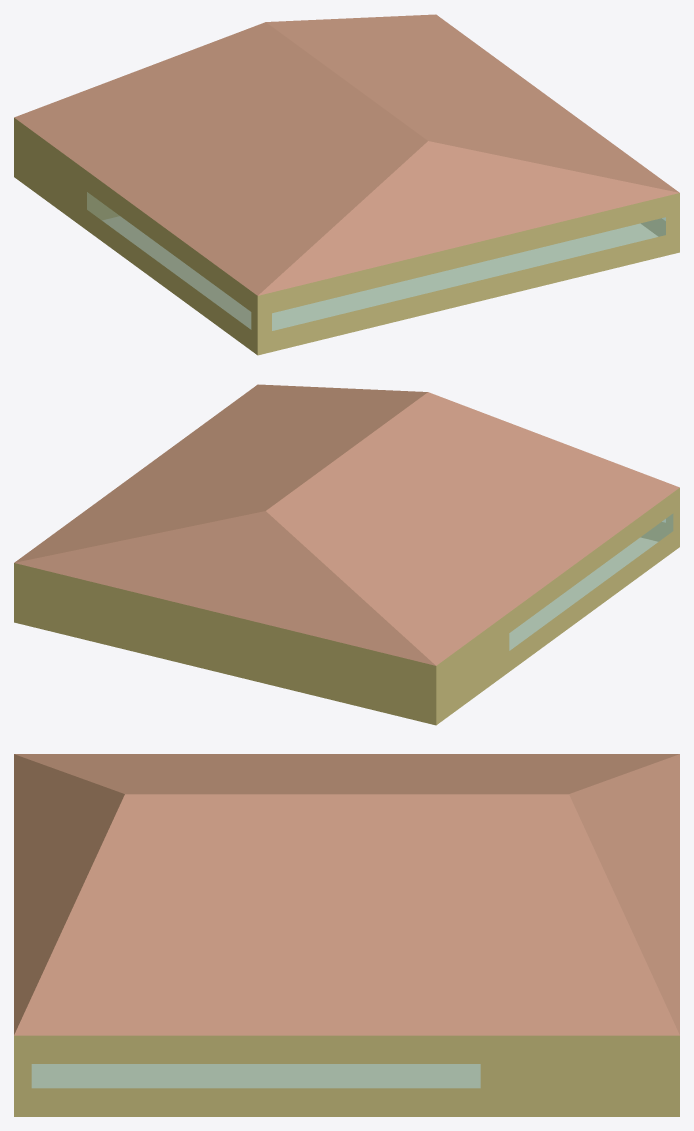
File: RefBldgFullServiceRestaurantNew2004_Chicago.gltf
3 views of the same model, one above another, from view 1: azimuth 30°, elevation 25°; view 2: azimuth 150°, elevation 25°; view 3: azimuth 270°, elevation 25° (orthographic). The views are drawn at different scales.
Visible parts, largest first — view 1: west-roof, east-roof, south-roof, Dining_Wall_South, Dining_Floor, Dining_Wall_West, Dining_Wall_South_Window, Kitchen_Wall_West, Dining_Wall_West_Window; view 2: west-roof, east-roof, Kitchen_Wall_North, north-roof, Dining_Wall_West, Kitchen_Wall_West, Dining_Wall_West_Window, Dining_Floor; view 3: east-roof, Dining_Wall_East, west-roof, north-roof, south-roof, Kitchen_Wall_East, Dining_Wall_East_Window, Dining_Floor.
Part boxes in pixels (box(x1,y1,x2,y2)): west-roof: box(14, 22, 427, 295); east-roof: box(266, 14, 679, 192); south-roof: box(258, 141, 679, 295); Dining_Wall_South: box(257, 193, 679, 355); Dining_Floor: box(102, 216, 657, 330); Dining_Wall_West: box(80, 166, 257, 354); Dining_Wall_South_Window: box(272, 217, 665, 330); Kitchen_Wall_West: box(14, 118, 80, 225); Dining_Wall_West_Window: box(87, 192, 251, 329); west-roof: box(266, 392, 679, 665); east-roof: box(14, 384, 427, 562); Kitchen_Wall_North: box(14, 563, 436, 725); north-roof: box(14, 511, 435, 665); Dining_Wall_West: box(502, 488, 679, 676); Kitchen_Wall_West: box(436, 617, 502, 724); Dining_Wall_West_Window: box(509, 514, 673, 650); Dining_Floor: box(509, 537, 657, 650); east-roof: box(14, 794, 679, 1035); Dining_Wall_East: box(14, 1035, 498, 1116); west-roof: box(14, 754, 679, 794); north-roof: box(569, 754, 679, 1034); south-roof: box(14, 754, 124, 1034); Kitchen_Wall_East: box(498, 1035, 679, 1116); Dining_Wall_East_Window: box(31, 1064, 480, 1088); Dining_Floor: box(32, 1064, 480, 1087).
Size of the model in its own units: 22.61 by 6.82 by 22.61.
